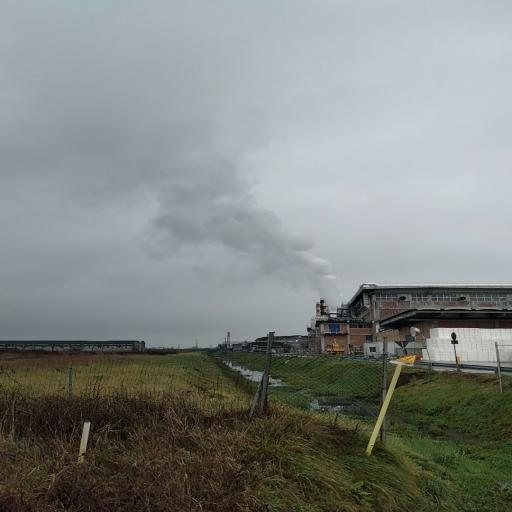leakage: (18, 100, 356, 327)
